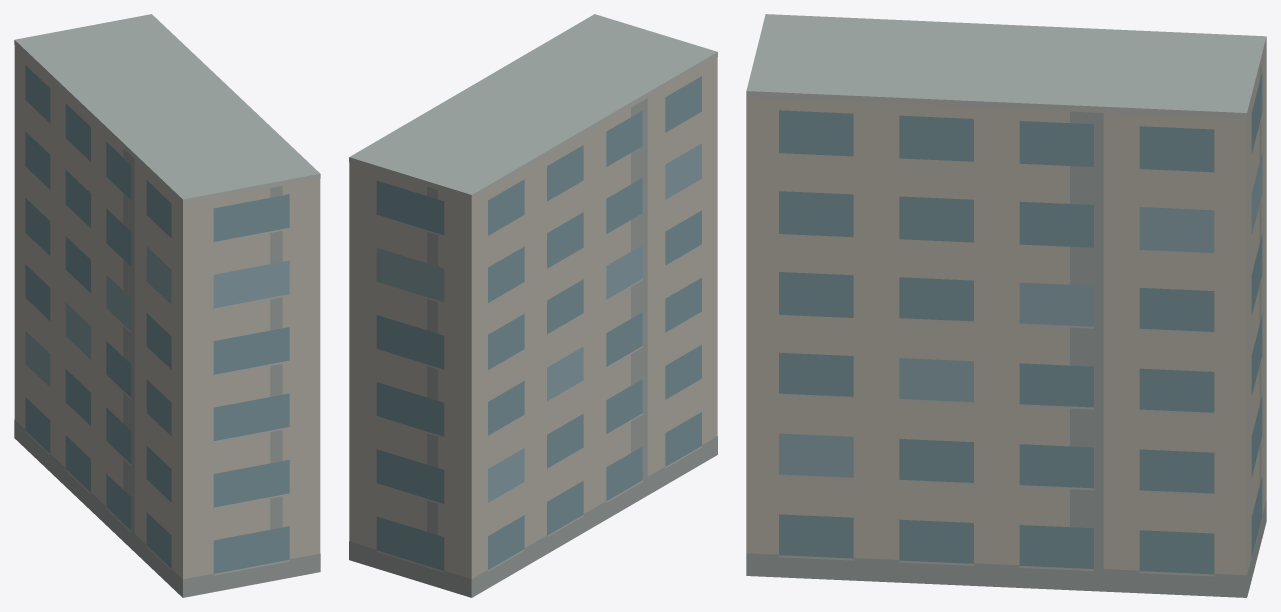
File: survey-upis-32962170.glb
3 renders of one model, left to right at view 1: azimuth 30°, elevation 25°; view 2: azimuth 150°, elevation 25°; view 3: azimuth 270°, elevation 25°, orthographic. The views are drawn at different scales.
Parts seen in each view (by area): view 1: survey-upis-32962170.tmp; view 2: survey-upis-32962170.tmp; view 3: survey-upis-32962170.tmp.
Boxes of the visible parts, bbox=[...] form: survey-upis-32962170.tmp: bbox=[14, 14, 320, 597]; survey-upis-32962170.tmp: bbox=[349, 14, 717, 597]; survey-upis-32962170.tmp: bbox=[746, 14, 1266, 597].
Size of the model in its own units: 8.24 by 18.8 by 18.29.
